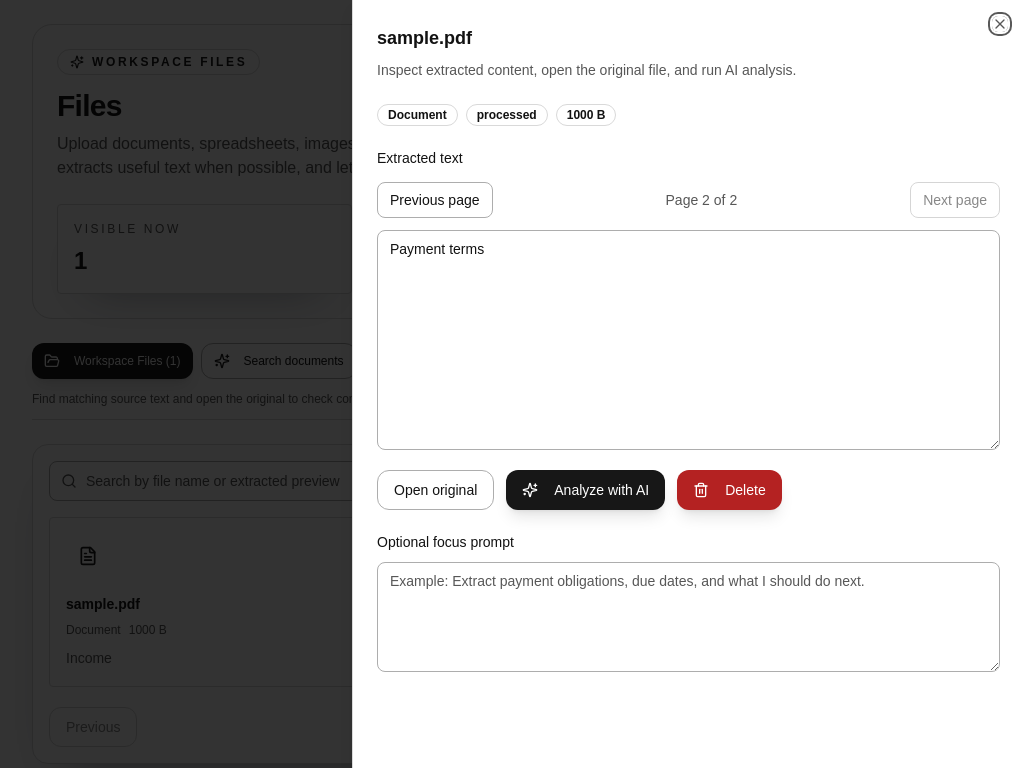
opens an exact file page from a citation, updates its URL and clears the selection on close
This screenshot has width=1024, height=768.
Expected: the text box named "Extracted text, page 2" holds "Payment terms", [377,230,1000,450]
Click the button with aria-label "Previous extracted page": {"x": 435, "y": 200} [377,182,492,218]
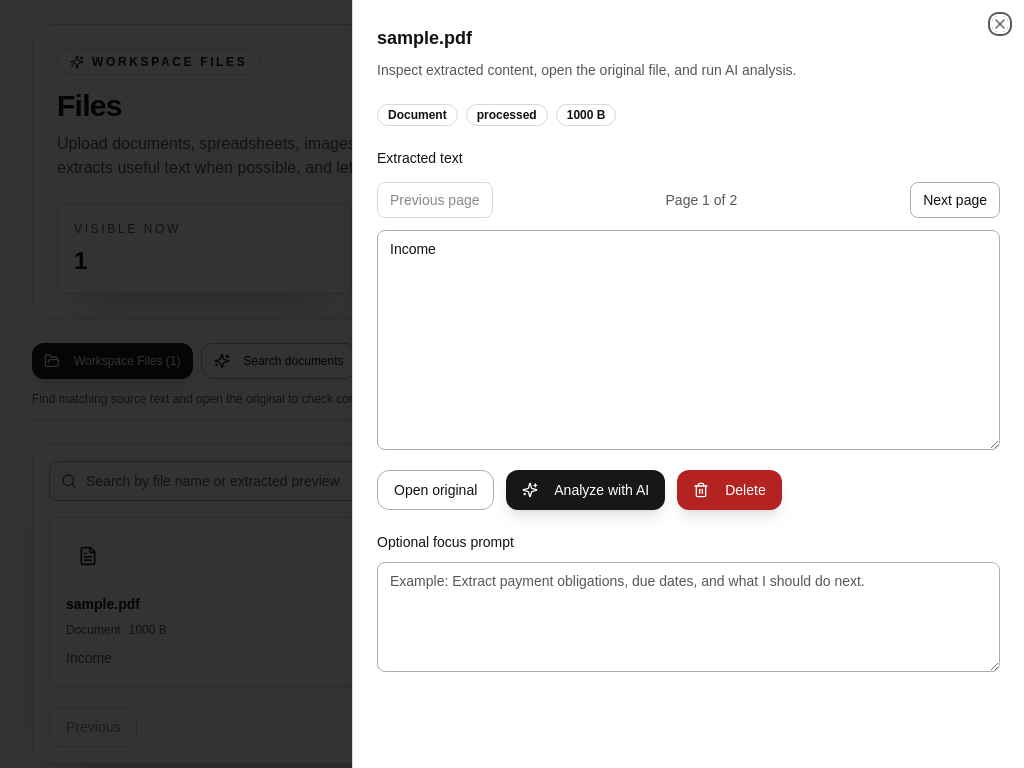
Result: the text box named "Extracted text, page 1" holds "Income" at [377,230,1000,450]
Click the button named "Close": {"x": 1000, "y": 24} [992,16,1008,32]
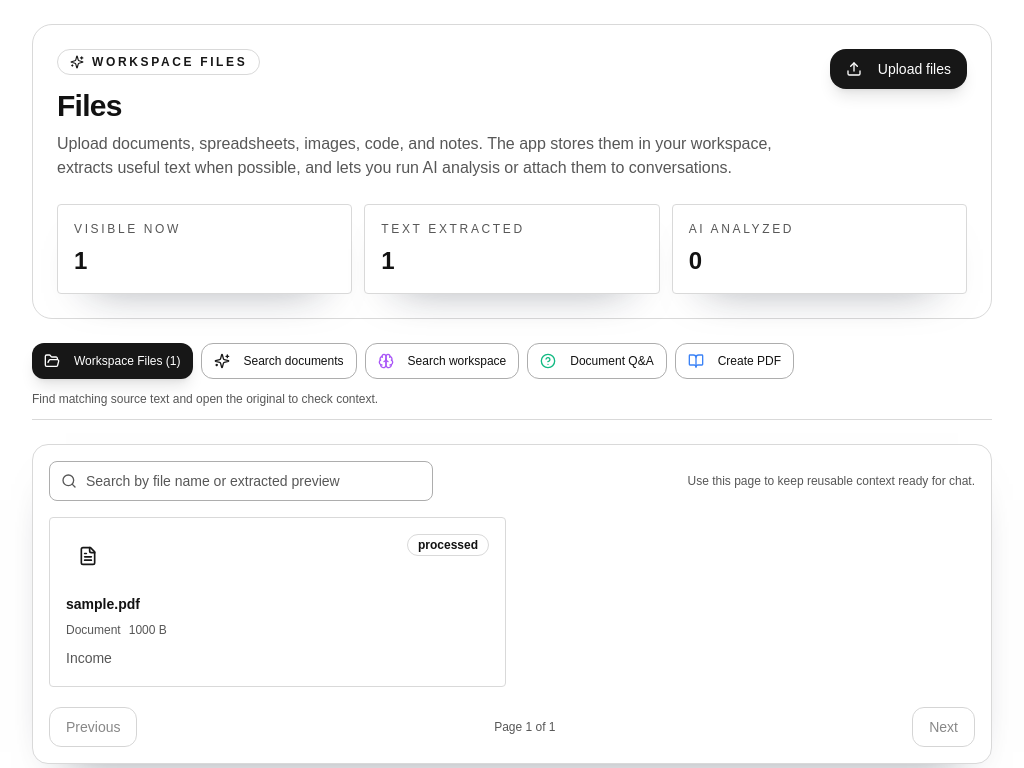
Result: the dialog is gone
